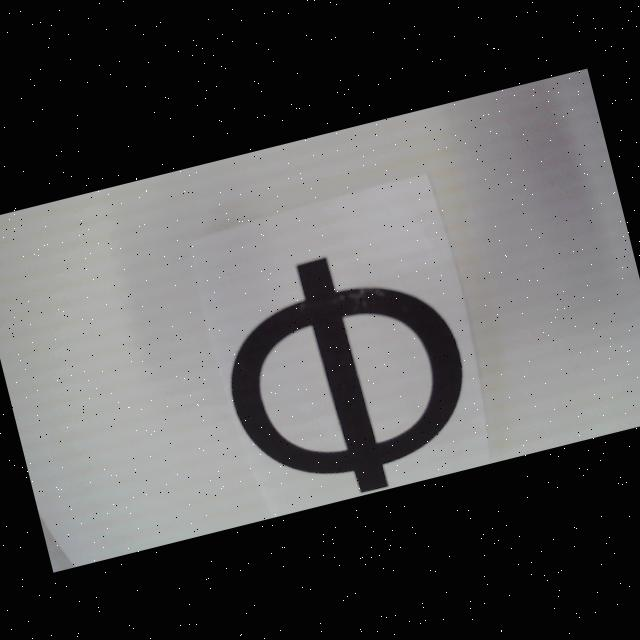PHI: (204, 230, 487, 518)
